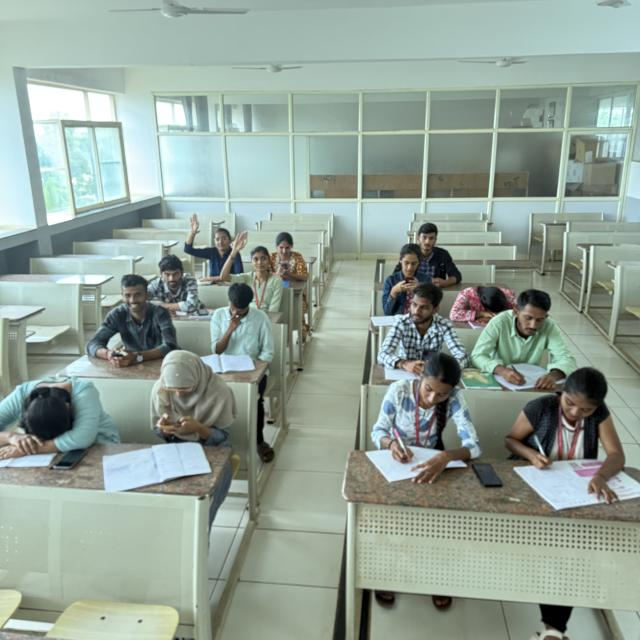Hand Rising: (177, 208, 242, 281), (219, 224, 277, 302)
Sleeping: (0, 368, 121, 475), (448, 281, 522, 329)
Using Phone: (143, 347, 242, 454), (86, 272, 187, 366), (378, 240, 440, 311), (269, 233, 310, 290)
Writing: (361, 344, 484, 489), (509, 365, 622, 496), (475, 289, 571, 390)
